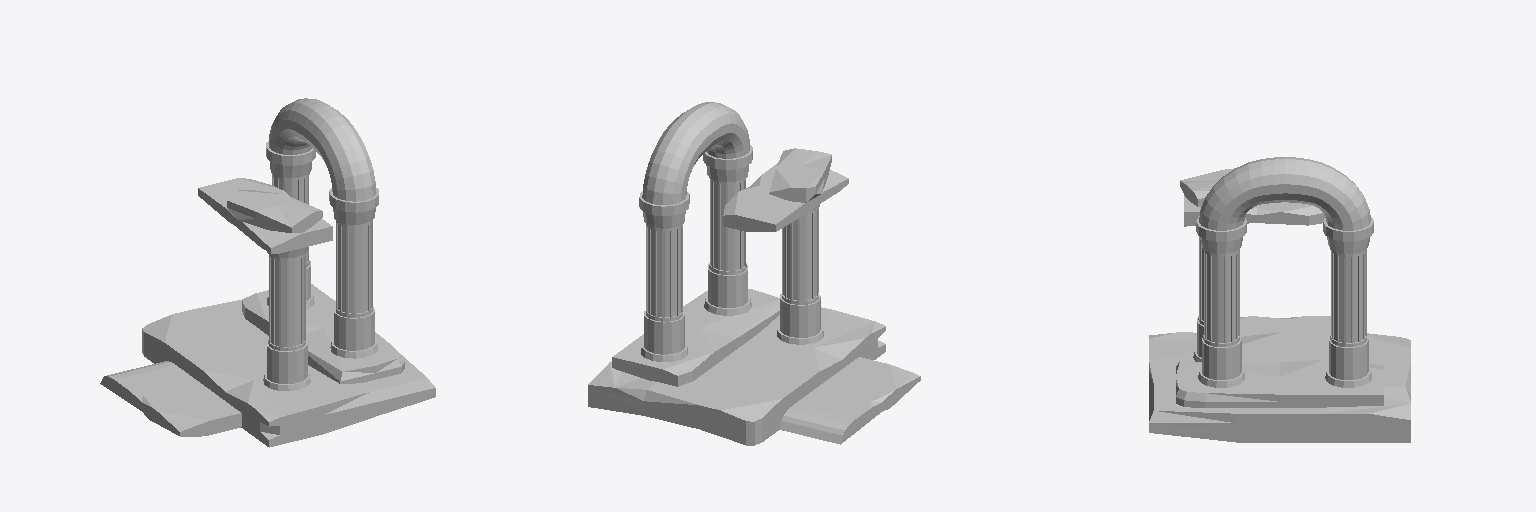
File: ruina_2.2.obj
The picture shows the model from 3 angles: view 1: azimuth 30°, elevation 25°; view 2: azimuth 150°, elevation 25°; view 3: azimuth 270°, elevation 25°; orthographic projection.
Visible parts, largest first — view 1: Cube.012; view 2: Cube.012; view 3: Cube.012.
Boxes of the visible parts, box(x1,y1,x2,y2) form: Cube.012: box(100, 98, 435, 447); Cube.012: box(588, 102, 920, 445); Cube.012: box(1149, 157, 1410, 442).
Bounding box in the file's own units: 17.07 × 18.68 × 17.